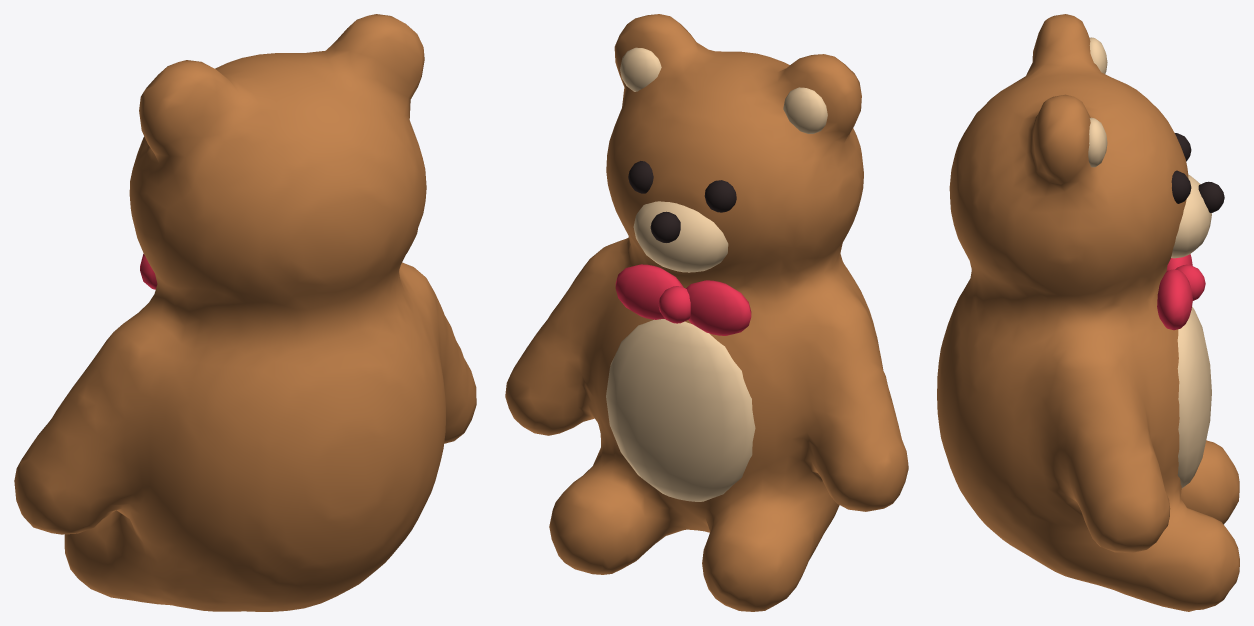
The model's file is MessyMemoryTeddy.obj.
3 views of the same model, side by side, from view 1: azimuth 30°, elevation 25°; view 2: azimuth 150°, elevation 25°; view 3: azimuth 270°, elevation 25° (orthographic). The views are drawn at different scales.
Parts seen in each view (by area): view 1: Fur; view 2: Fur, Snout, Bow, Face; view 3: Fur, Snout, Bow, Face.
Part boxes in pixels (left/top/right/bottom): Fur: left=14, top=14, right=476, bottom=611; Fur: left=505, top=14, right=908, bottom=611; Snout: left=606, top=47, right=827, bottom=501; Bow: left=615, top=264, right=751, bottom=335; Face: left=628, top=161, right=736, bottom=242; Fur: left=937, top=14, right=1239, bottom=611; Snout: left=1088, top=37, right=1211, bottom=488; Bow: left=1157, top=254, right=1205, bottom=330; Face: left=1171, top=133, right=1224, bottom=212.
Size of the model in its own units: 1.42 by 1.78 by 0.9563.
